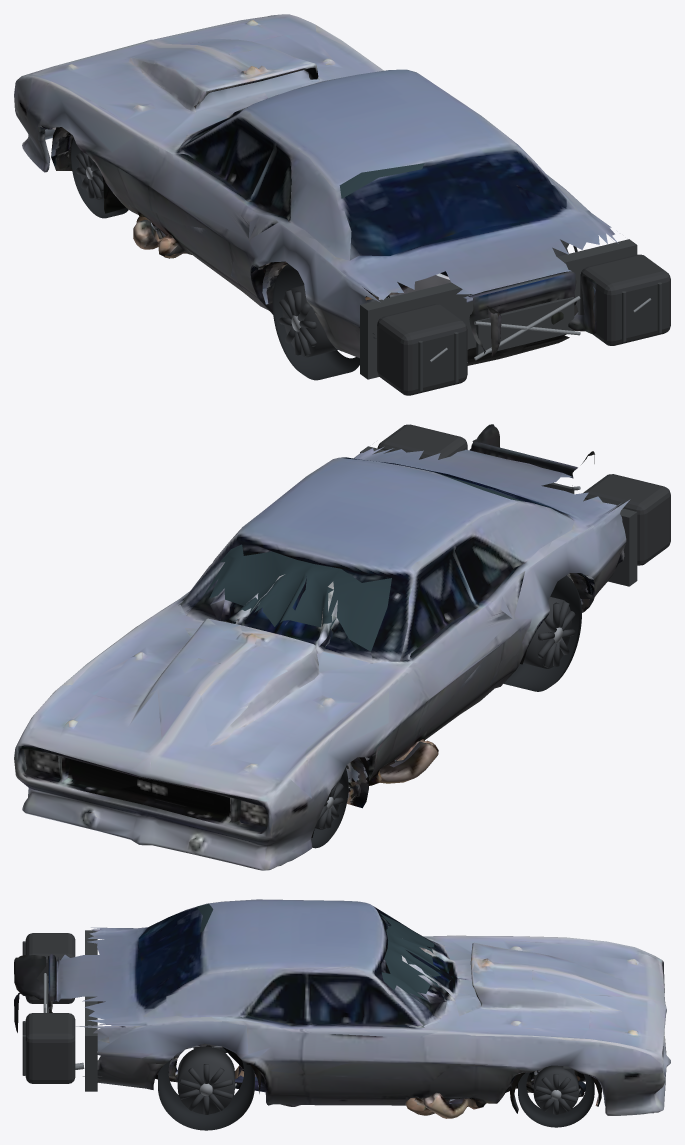
Rendered from eagle-low.glb.
3 views of the same model, one above another, from view 1: azimuth 30°, elevation 25°; view 2: azimuth 150°, elevation 25°; view 3: azimuth 270°, elevation 25° (orthographic). The views are drawn at different scales.
Parts seen in each view (by area): view 1: body, parachute_pack, parachute_pack.001, rear_hardware_mounting_panel, wheel_rl, rear_center_race_panel, wheel_fl; view 2: body, wheel_rl, parachute_pack, parachute_pack.001, rear_hardware_mounting_panel, wheel_fl; view 3: body, wheel_rr, parachute_pack.001, wheel_fr, parachute_pack, rear_hardware_mounting_panel.
Boxes of the visible parts, x1,y1,x2,y2 form: body: [14, 14, 618, 365]; parachute_pack: [377, 304, 467, 395]; parachute_pack.001: [580, 254, 670, 345]; rear_hardware_mounting_panel: [360, 239, 637, 379]; wheel_rl: [272, 264, 359, 380]; rear_center_race_panel: [476, 297, 574, 354]; wheel_fl: [71, 138, 128, 218]; body: [14, 424, 630, 870]; wheel_rl: [503, 575, 581, 691]; parachute_pack: [583, 474, 670, 565]; parachute_pack.001: [377, 424, 467, 459]; rear_hardware_mounting_panel: [360, 446, 637, 586]; wheel_fl: [311, 767, 348, 848]; body: [14, 899, 670, 1118]; wheel_rr: [158, 1046, 254, 1130]; parachute_pack.001: [25, 1013, 75, 1083]; wheel_fr: [518, 1065, 594, 1127]; parachute_pack: [25, 933, 75, 1003]; rear_hardware_mounting_panel: [85, 930, 97, 1091].
Bounding box in the file's own units: 2.19 × 1.34 × 5.14.
8 materials, 1 textured.
